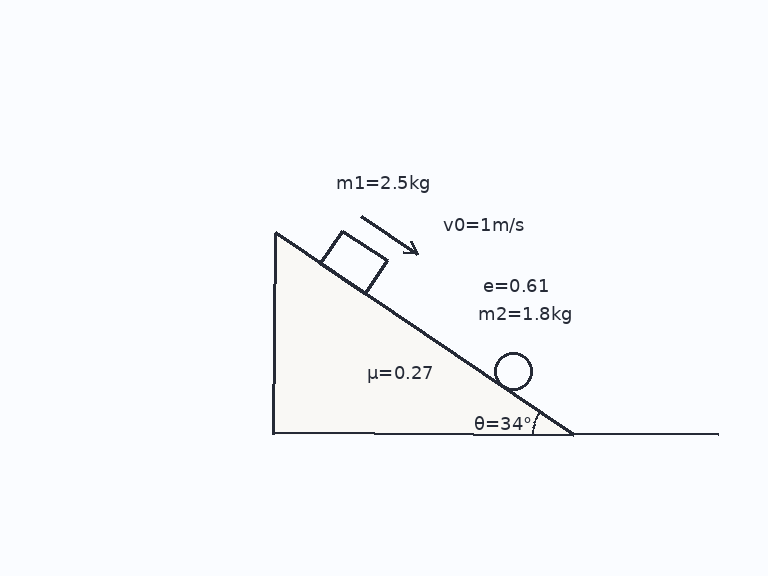ball: (492, 350, 534, 392)
block: (318, 229, 388, 295)
ramp: (273, 231, 575, 436)
